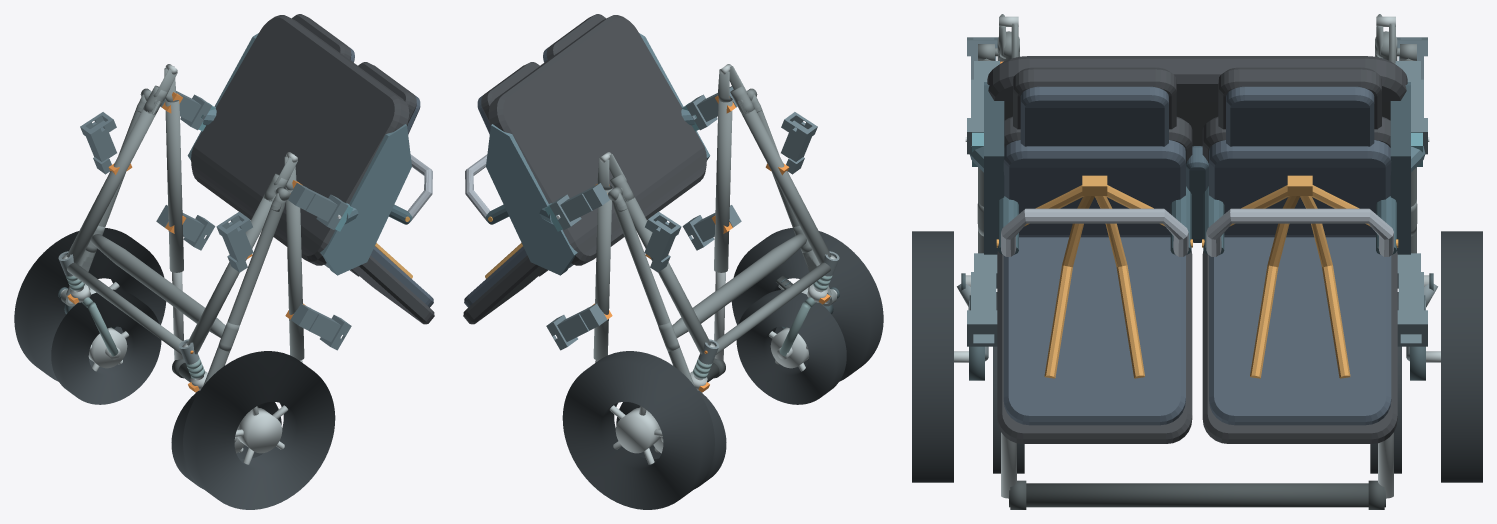
Rendered from S10_w650_state3_wheel_L.glb.
3 renders of one model, left to right at view 1: azimuth 30°, elevation 25°; view 2: azimuth 150°, elevation 25°; view 3: azimuth 270°, elevation 25°, orthographic. The views are drawn at different scales.
Visible parts, largest first — view 1: S10_Cabin, RL_tire.008, FR_tire.008, RR_tire.008, V46_rearbar.009, main_upper_1.009, main_lower_1.009, V46_rear_leg_-1.009, main_upper_-1.009, main_lower_-1.009, front_fixed_round_tube.008, RL_sealed_hub.008 (+12 smaller); view 2: S10_Cabin, RR_tire.008, FL_tire.008, RL_tire.008, V46_rearbar.009, main_upper_-1.009, main_lower_-1.009, V46_rear_leg_1.009, main_upper_1.009, main_lower_1.009, front_fixed_round_tube.008, RR_sealed_hub.008 (+12 smaller); view 3: S10_Cabin, RL_tire.008, RR_tire.008, round_handle.008, Universal_Cabin_Receiver_H_1, Universal_Cabin_Receiver_H_-1, Universal_Cabin_Receiver_M_1, Universal_Cabin_Receiver_M_-1, FL_tire.008, FR_tire.008, S10_Cabin_Mount_M, handle_slider_1.008 (+1 smaller).
Boxes of the visible parts, bbox=[...] form: S10_Cabin: bbox=[187, 14, 434, 324]; RL_tire.008: bbox=[183, 351, 335, 509]; FR_tire.008: bbox=[51, 289, 161, 404]; RR_tire.008: bbox=[14, 228, 166, 381]; V46_rearbar.009: bbox=[91, 234, 225, 337]; main_upper_1.009: bbox=[165, 100, 183, 272]; main_lower_1.009: bbox=[66, 101, 160, 264]; V46_rear_leg_-1.009: bbox=[203, 200, 285, 386]; main_upper_-1.009: bbox=[285, 188, 304, 360]; main_lower_-1.009: bbox=[187, 195, 275, 354]; front_fixed_round_tube.008: bbox=[67, 262, 182, 354]; RL_sealed_hub.008: bbox=[237, 407, 282, 453]; S10_Cabin: bbox=[463, 14, 710, 324]; RR_tire.008: bbox=[562, 351, 714, 509]; FL_tire.008: bbox=[736, 289, 846, 404]; RL_tire.008: bbox=[731, 228, 883, 381]; V46_rearbar.009: bbox=[672, 234, 806, 337]; main_upper_-1.009: bbox=[714, 100, 732, 272]; main_lower_-1.009: bbox=[737, 101, 831, 264]; V46_rear_leg_1.009: bbox=[612, 200, 694, 386]; main_upper_1.009: bbox=[593, 188, 612, 360]; main_lower_1.009: bbox=[622, 195, 710, 354]; front_fixed_round_tube.008: bbox=[715, 262, 830, 354]; RR_sealed_hub.008: bbox=[615, 407, 660, 453]; S10_Cabin: bbox=[984, 56, 1410, 443]; RL_tire.008: bbox=[912, 231, 953, 482]; RR_tire.008: bbox=[1441, 231, 1482, 482]; round_handle.008: bbox=[1009, 483, 1385, 507]; Universal_Cabin_Receiver_H_1: bbox=[1397, 253, 1427, 346]; Universal_Cabin_Receiver_H_-1: bbox=[967, 253, 997, 346]; Universal_Cabin_Receiver_M_1: bbox=[1395, 61, 1427, 154]; Universal_Cabin_Receiver_M_-1: bbox=[967, 61, 999, 154]; FL_tire.008: bbox=[993, 292, 1024, 473]; FR_tire.008: bbox=[1370, 292, 1401, 473]; S10_Cabin_Mount_M: bbox=[965, 132, 1429, 172]; handle_slider_1.008: bbox=[1378, 432, 1393, 498].
Size of the model in its own units: 0.7065 by 0.8542 by 0.8171.
